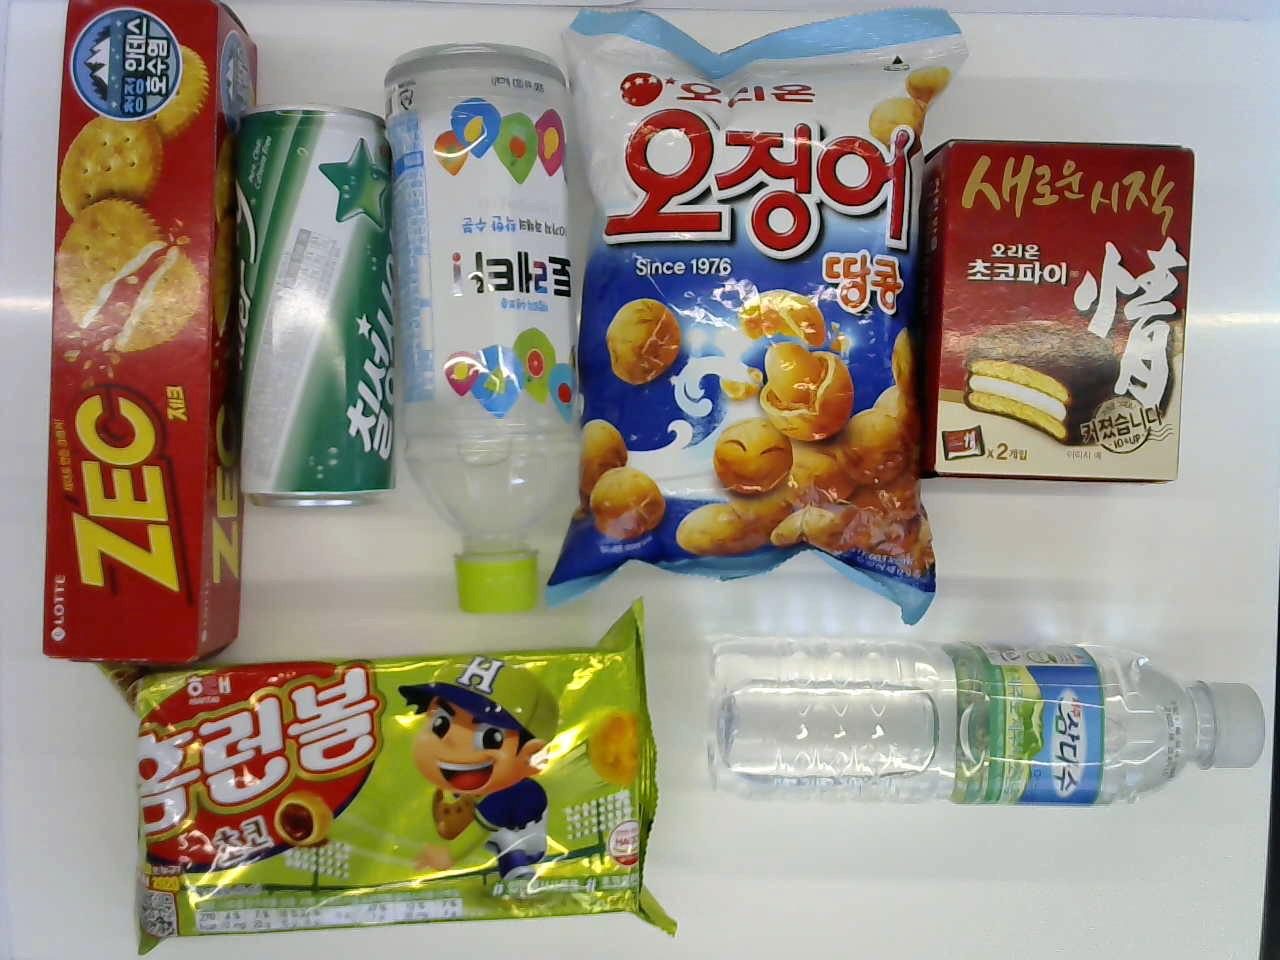chocopie: (937, 122, 1187, 491)
cidar: (228, 98, 397, 507)
homerunball: (573, 9, 969, 582), (113, 649, 658, 919)
samdasu: (700, 618, 1264, 813)
toreta: (403, 41, 590, 618)
zec: (30, 0, 244, 663)
